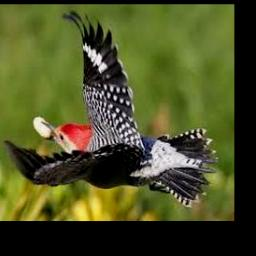Woodpecker: (4, 10, 219, 207)
